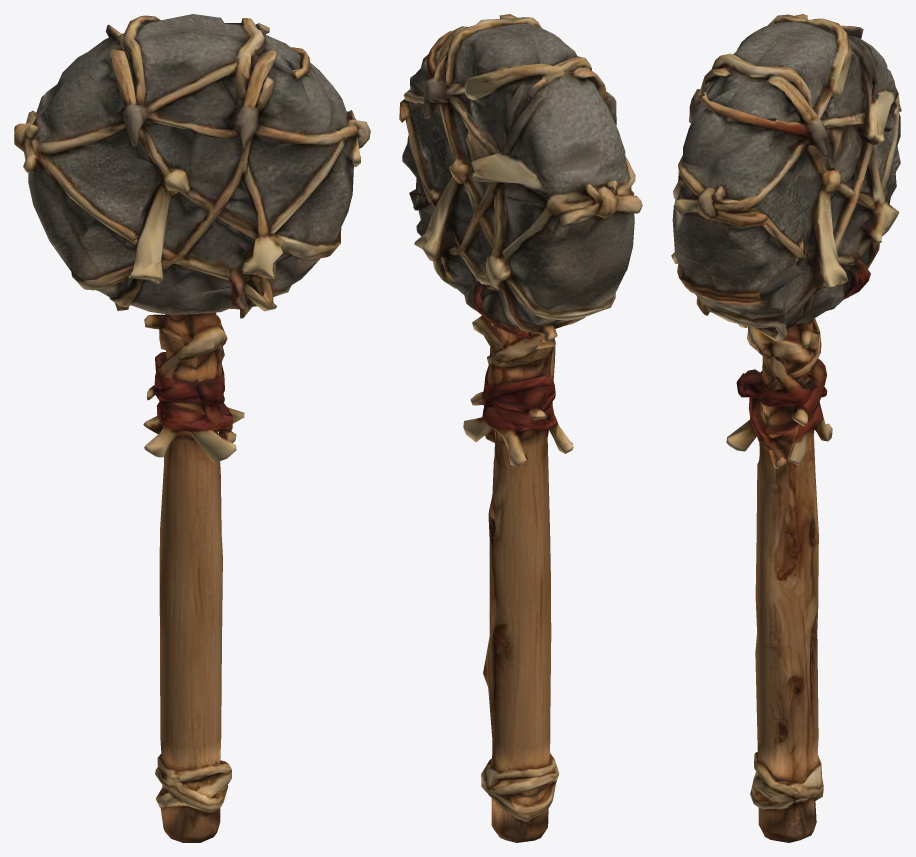
File: maza_piedra.glb
The picture shows the model from 3 angles, left to right: view 1: azimuth 30°, elevation 25°; view 2: azimuth 150°, elevation 25°; view 3: azimuth 270°, elevation 25°; orthographic projection.
Visible parts, largest first — view 1: tripo_node_c2208901-ae64-4193-960c-f854c963cddb; view 2: tripo_node_c2208901-ae64-4193-960c-f854c963cddb; view 3: tripo_node_c2208901-ae64-4193-960c-f854c963cddb.
Boxes of the visible parts, left/top/right/bottom form: tripo_node_c2208901-ae64-4193-960c-f854c963cddb: left=14, top=14, right=370, bottom=842; tripo_node_c2208901-ae64-4193-960c-f854c963cddb: left=399, top=14, right=642, bottom=842; tripo_node_c2208901-ae64-4193-960c-f854c963cddb: left=671, top=14, right=901, bottom=842.
Size of the model in its own units: 0.3719 by 0.9997 by 0.2607.
Materials: 1 (1 with a texture image).
